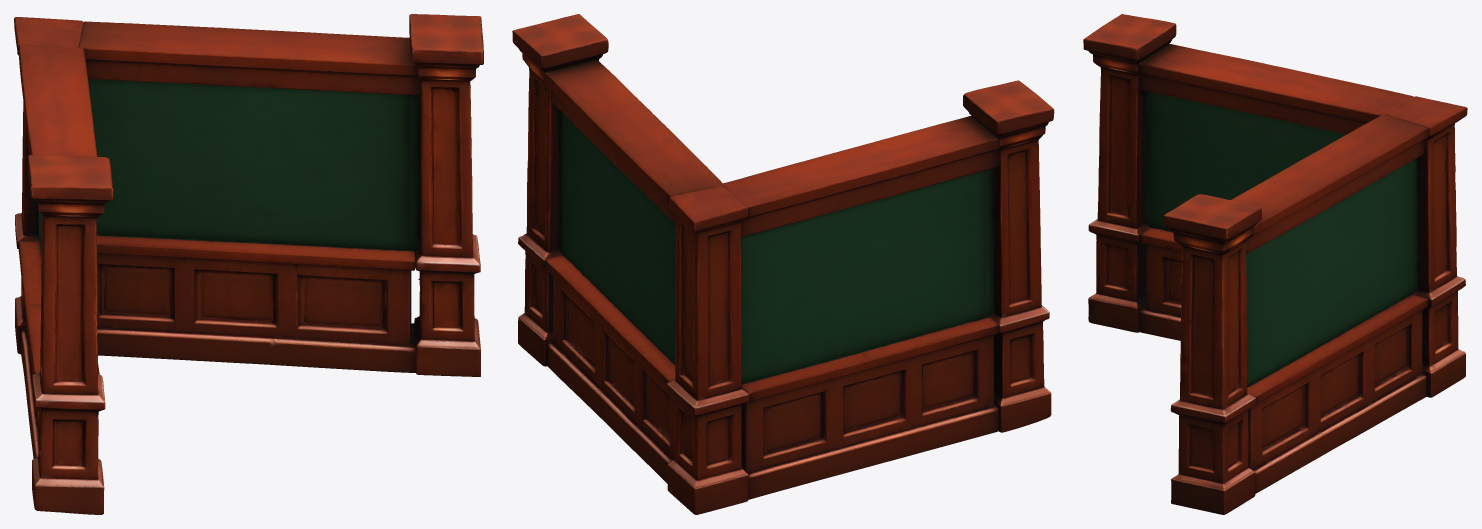
The model's file is wall-corner.glb.
3 renders of one model, left to right at view 1: azimuth 30°, elevation 25°; view 2: azimuth 150°, elevation 25°; view 3: azimuth 270°, elevation 25°, orthographic. The views are drawn at different scales.
Parts seen in each view (by area): view 1: tripo_node_7679db36-194b-43d5-b2d0-55c196d2ed51; view 2: tripo_node_7679db36-194b-43d5-b2d0-55c196d2ed51; view 3: tripo_node_7679db36-194b-43d5-b2d0-55c196d2ed51.
Part boxes in pixels (left/top/right/bottom): tripo_node_7679db36-194b-43d5-b2d0-55c196d2ed51: left=14, top=14, right=483, bottom=514; tripo_node_7679db36-194b-43d5-b2d0-55c196d2ed51: left=512, top=14, right=1054, bottom=514; tripo_node_7679db36-194b-43d5-b2d0-55c196d2ed51: left=1083, top=14, right=1467, bottom=514.
Size of the model in its own units: 0.9808 by 0.6075 by 0.7324.
Materials: 1 (1 with a texture image).
